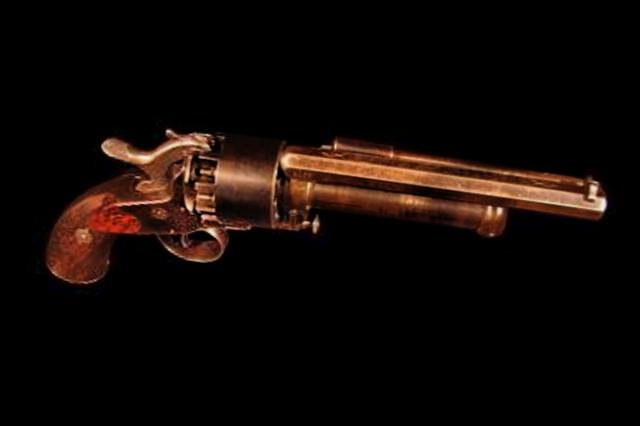pistol: (38, 84, 614, 359)
